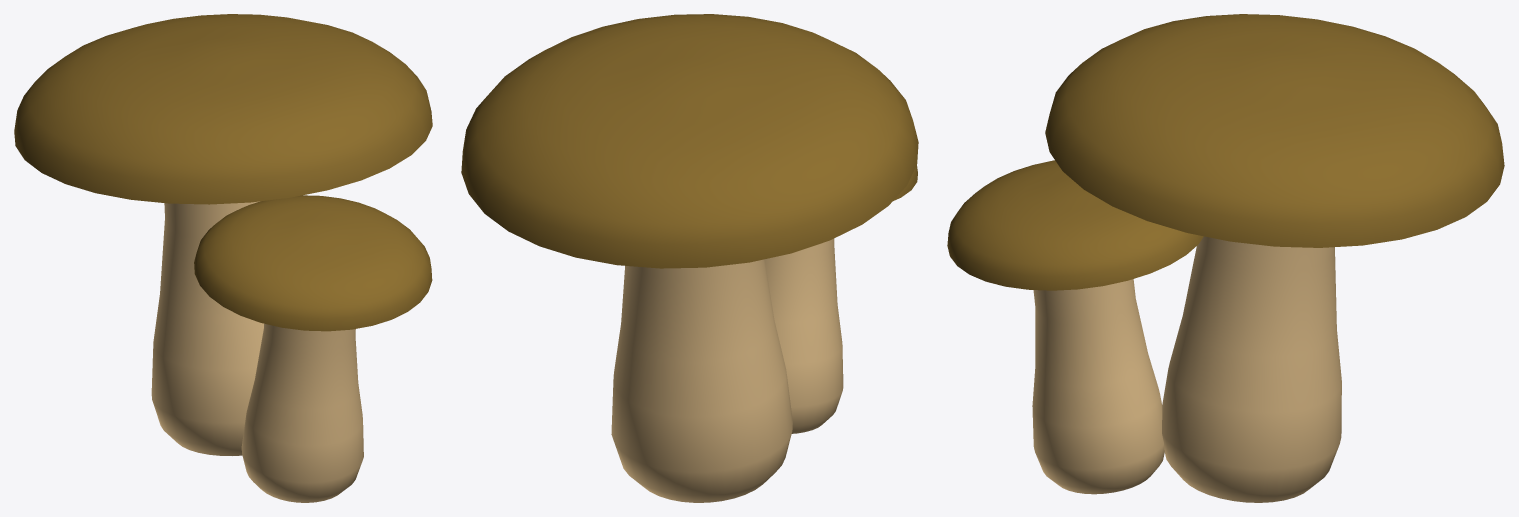
The model's file is hongos.fbx.
3 views of the same model, side by side, from view 1: azimuth 30°, elevation 25°; view 2: azimuth 150°, elevation 25°; view 3: azimuth 270°, elevation 25° (orthographic). The views are drawn at different scales.
Visible parts, largest first — view 1: Sphere; view 2: Sphere; view 3: Sphere.
Part boxes in pixels (box(x1,y1,x2,y2)): Sphere: box(14, 14, 432, 502); Sphere: box(461, 14, 918, 502); Sphere: box(947, 14, 1504, 502).
Bounding box in the file's own units: 505 × 500 × 610.
